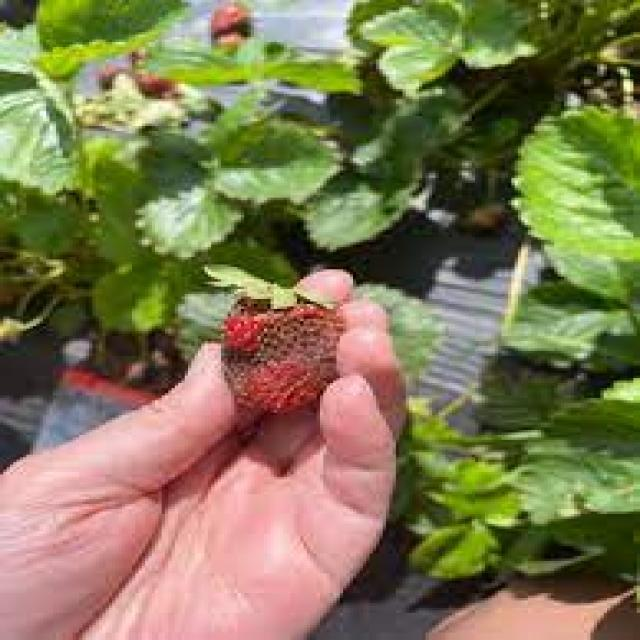Mancha negra Antracnosis: (219, 288, 339, 402)
